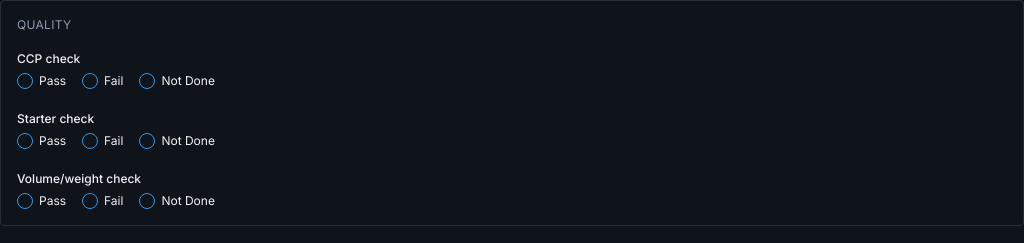
Test case: QualityPillar › can express all three states for a single check
Click the radio button with id "ccp_check_status-Pass". click: (25, 81)
box: [17,73,33,89]
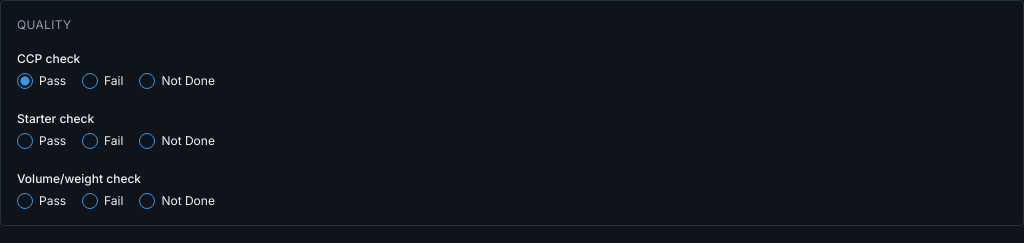
Now the radio button with id "ccp_check_status-Pass" is checked, box [17,73,33,89]
Click the radio button with id "ccp_check_status-Fail". click: (90, 81)
box: [82,73,98,89]
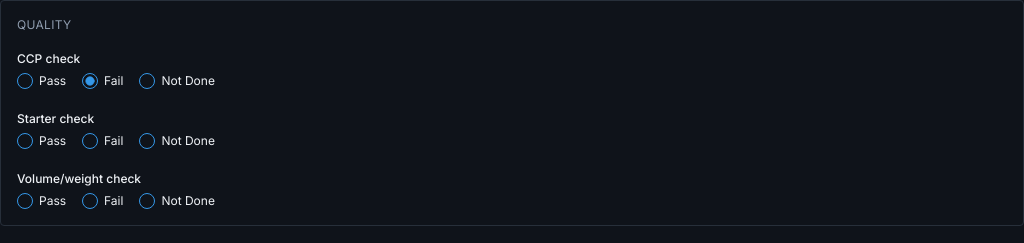
Now the radio button with id "ccp_check_status-Fail" is checked, box [82,73,98,89]
Now the radio button with id "ccp_check_status-Pass" is not checked, box [17,73,33,89]
Click the 3rd radio button. click: (147, 81)
box: [139,73,155,89]
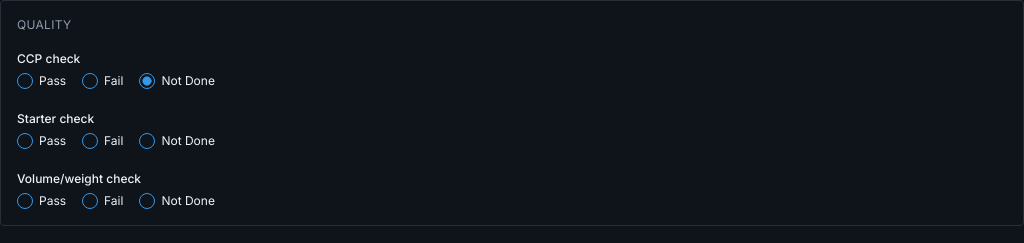
Now the 3rd radio button is checked, box [139,73,155,89]
Now the radio button with id "ccp_check_status-Fail" is not checked, box [82,73,98,89]
